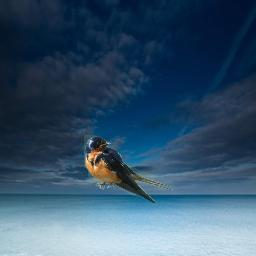Swallow: (84, 135, 173, 203)
